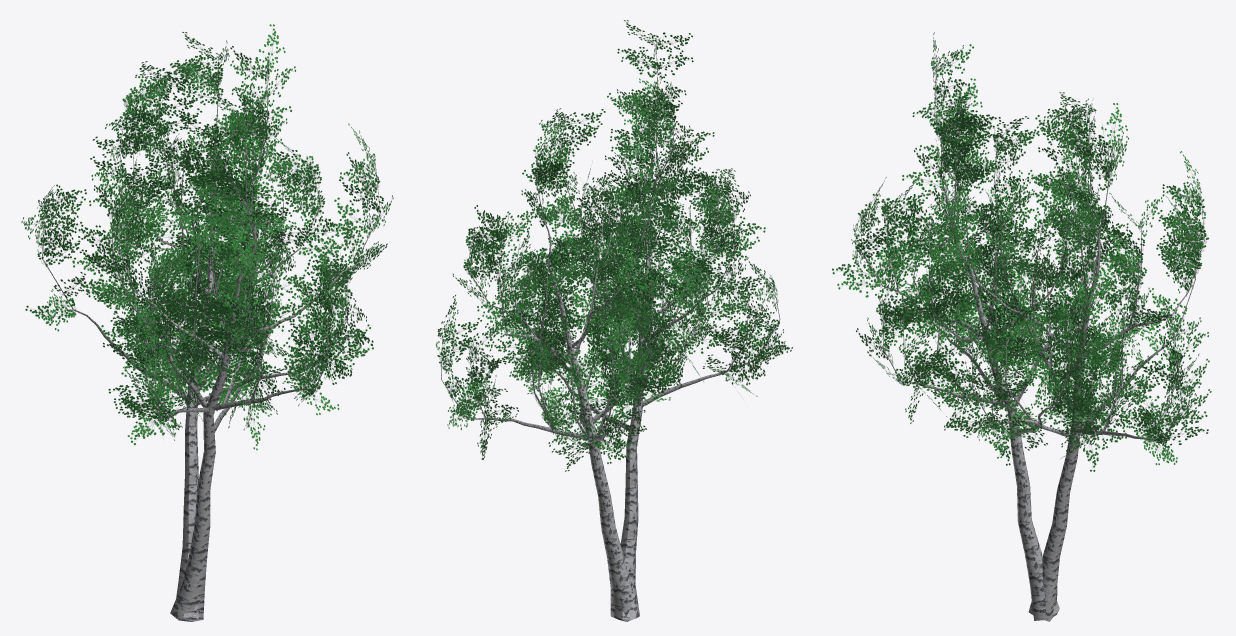
File: birch-4.glb
3 views of the same model, side by side, from view 1: azimuth 30°, elevation 25°; view 2: azimuth 150°, elevation 25°; view 3: azimuth 270°, elevation 25° (orthographic). The views are drawn at different scales.
Visible parts, largest first — view 1: birch_4; view 2: birch_4; view 3: birch_4.
Part boxes in pixels (bbox=[...]): birch_4: bbox=[21, 24, 393, 621]; birch_4: bbox=[435, 20, 792, 621]; birch_4: bbox=[832, 32, 1211, 621].
Size of the model in its own units: 132 by 253 by 150.
Materials: 2 (2 with a texture image).
